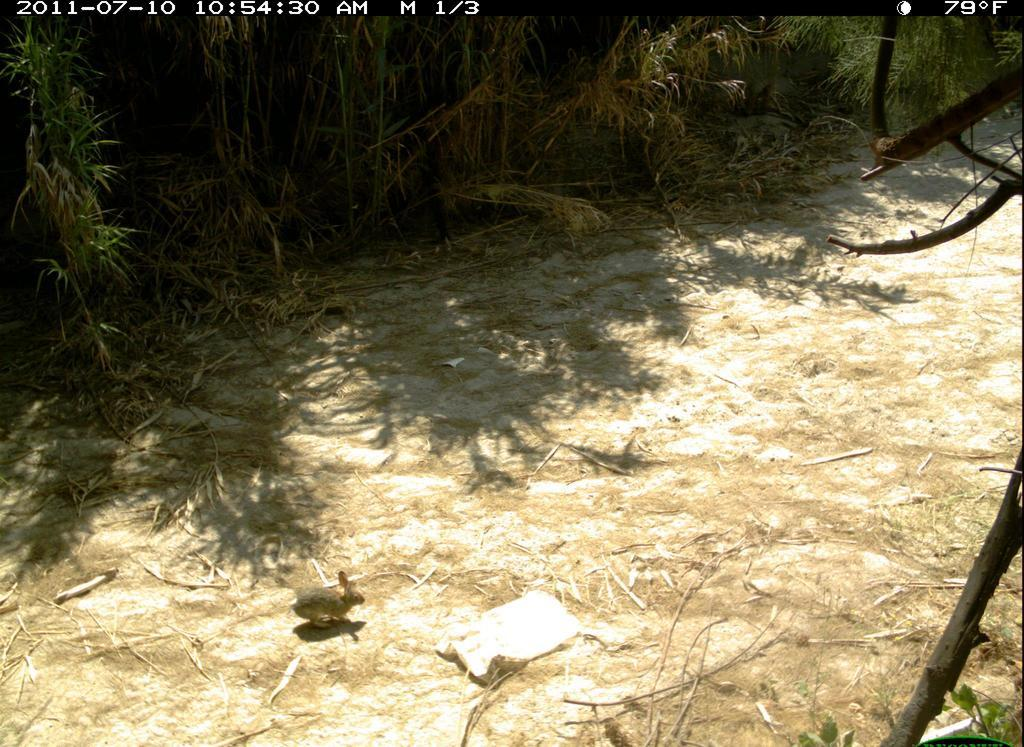rabbit: (289, 568, 363, 639)
